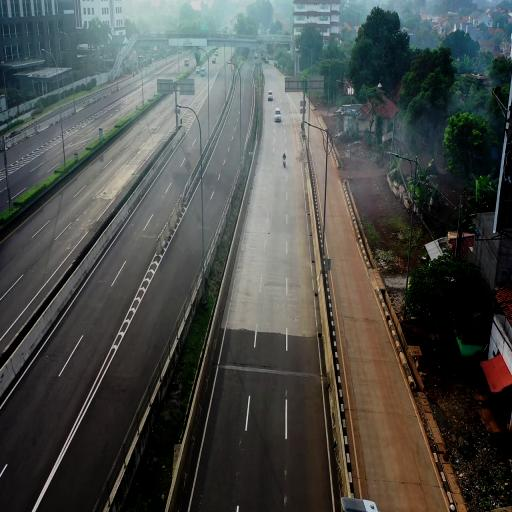vehicle: (342, 498, 378, 511), (274, 108, 281, 122), (268, 91, 273, 100), (200, 68, 205, 76), (283, 154, 286, 167), (184, 59, 189, 66), (196, 67, 200, 73), (264, 57, 268, 63), (254, 52, 257, 59), (212, 57, 215, 63), (215, 50, 218, 56)
